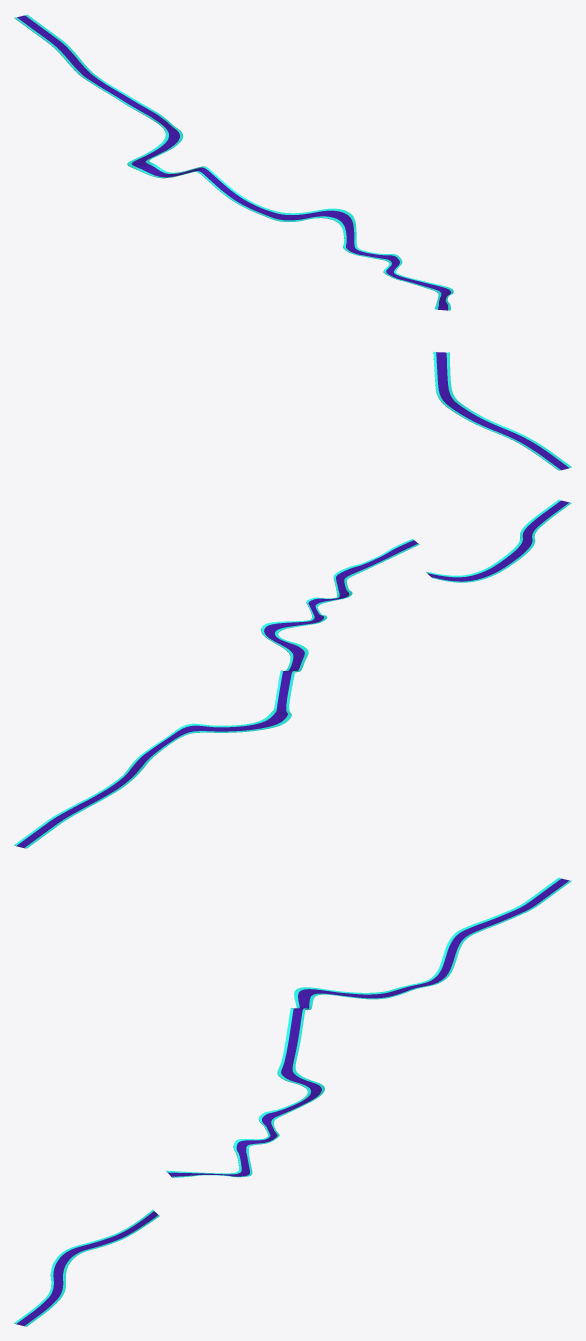
Rendered from Tut_2colors.FBX.
The picture shows the model from 3 angles, top to bottom: view 1: azimuth 30°, elevation 25°; view 2: azimuth 150°, elevation 25°; view 3: azimuth 330°, elevation 25°; orthographic projection.
Parts seen in each view (by area): view 1: Default001; view 2: Default001; view 3: Default001.
Part boxes in pixels (box(x1,y1,x2,y2)): Default001: box(14, 14, 571, 470); Default001: box(14, 499, 571, 848); Default001: box(14, 877, 571, 1326).
Bounding box in the file's own units: 14102 × 7290 × 97523.
